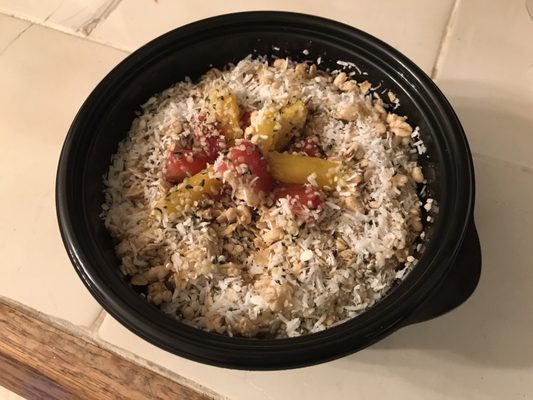sushi: (54, 3, 456, 373)
